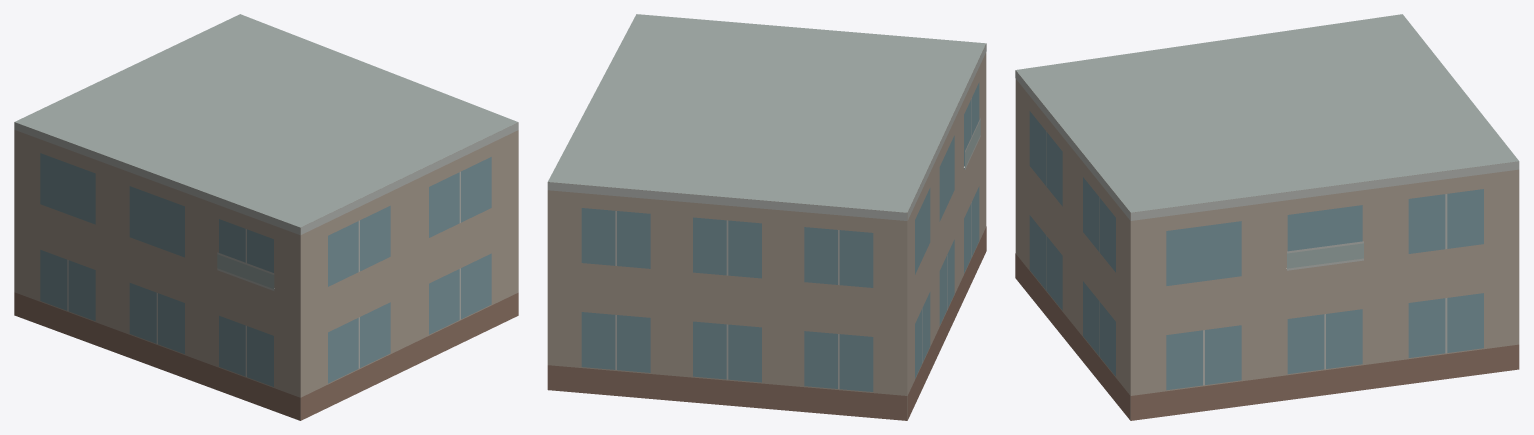
Rendered from survey-upis-32619614.glb.
The picture shows the model from 3 angles, left to right: view 1: azimuth 30°, elevation 25°; view 2: azimuth 150°, elevation 25°; view 3: azimuth 270°, elevation 25°; orthographic projection. The views are drawn at different scales.
Parts seen in each view (by area): view 1: survey-upis-32619614.tmp; view 2: survey-upis-32619614.tmp; view 3: survey-upis-32619614.tmp.
Part boxes in pixels (left/top/right/bottom): survey-upis-32619614.tmp: left=14, top=14, right=518, bottom=420; survey-upis-32619614.tmp: left=547, top=14, right=986, bottom=420; survey-upis-32619614.tmp: left=1015, top=14, right=1519, bottom=420.
Size of the model in its own units: 12.5 by 6.1 by 13.39.
